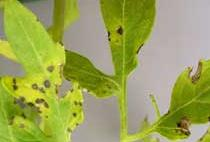Tomato leaf bacterial spot: (0, 0, 92, 142), (139, 27, 210, 142), (99, 0, 157, 89)
